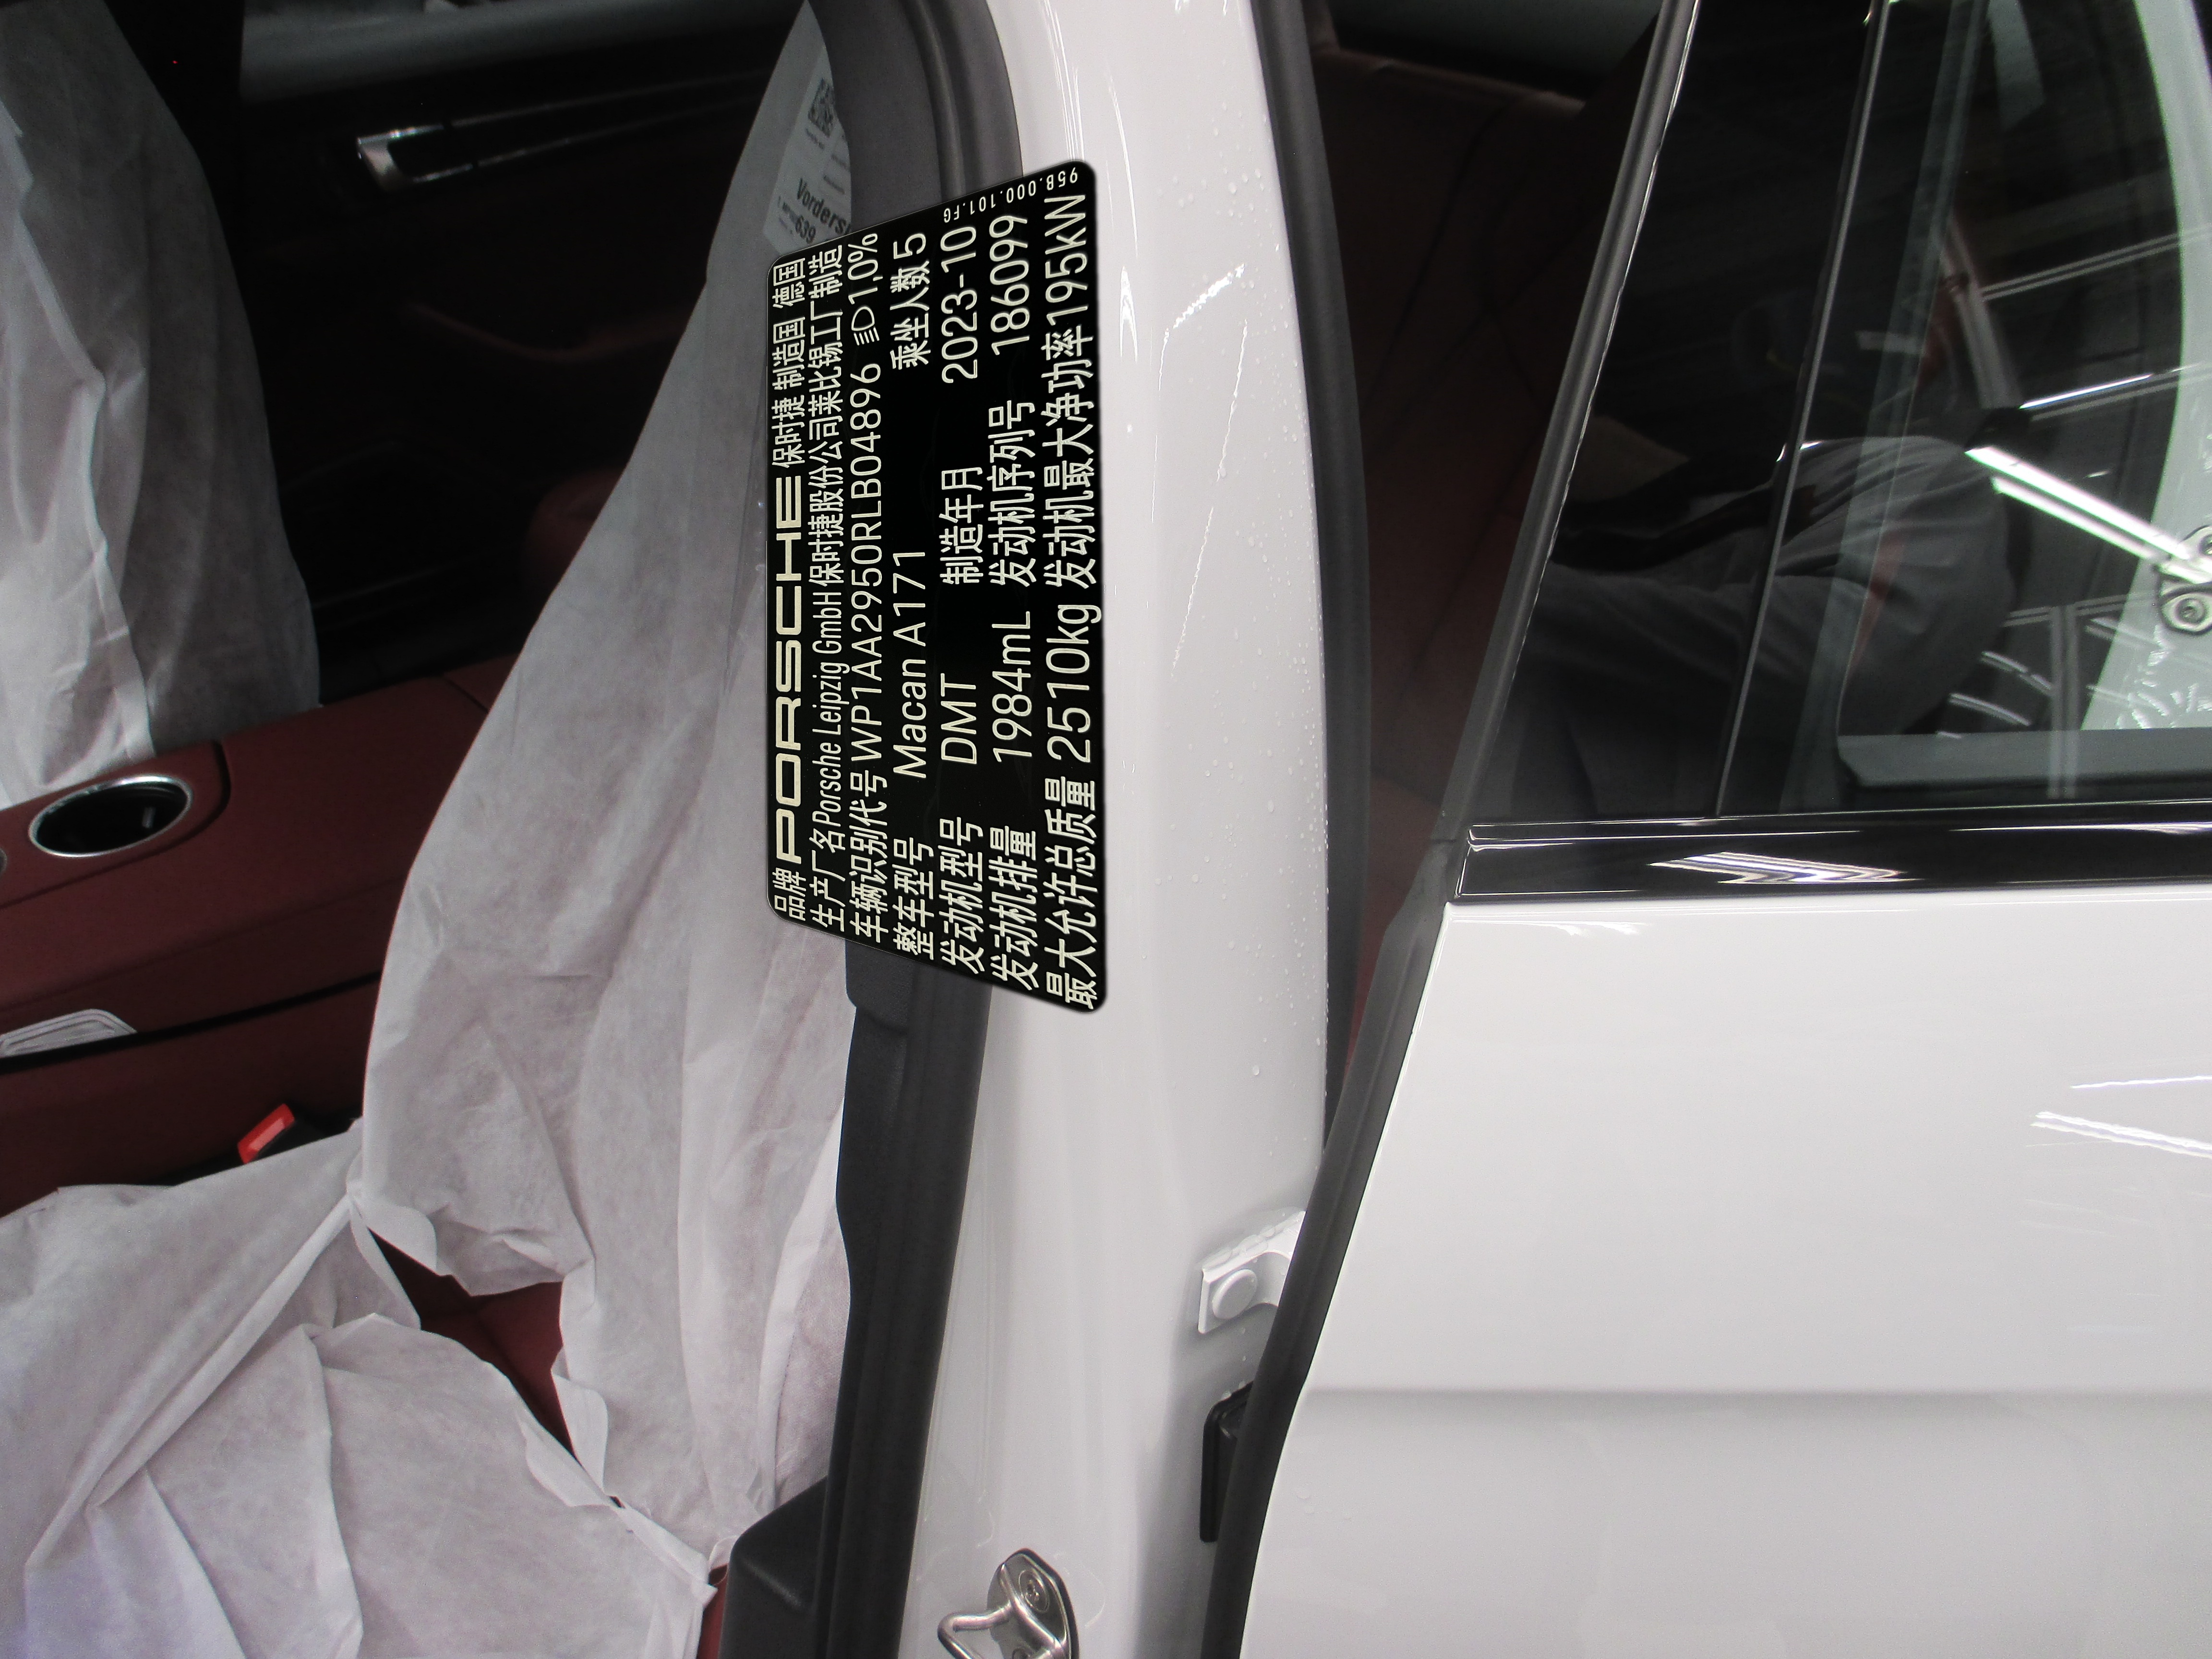Typlabel-China: (766, 160, 1106, 1012)
